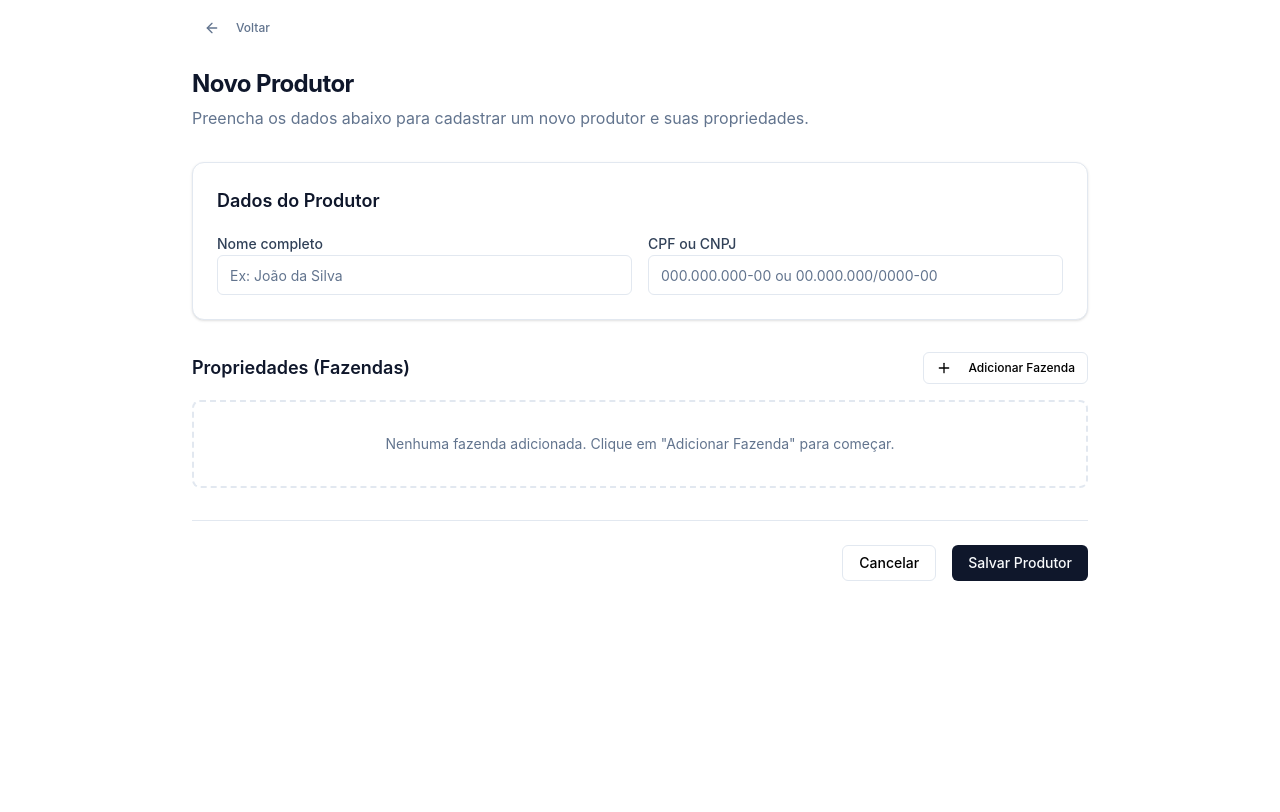
CreateProducer › validates area consistency
Step 1. Click the button "Adicionar Fazenda" → [1006, 368], box [923,352,1088,384]
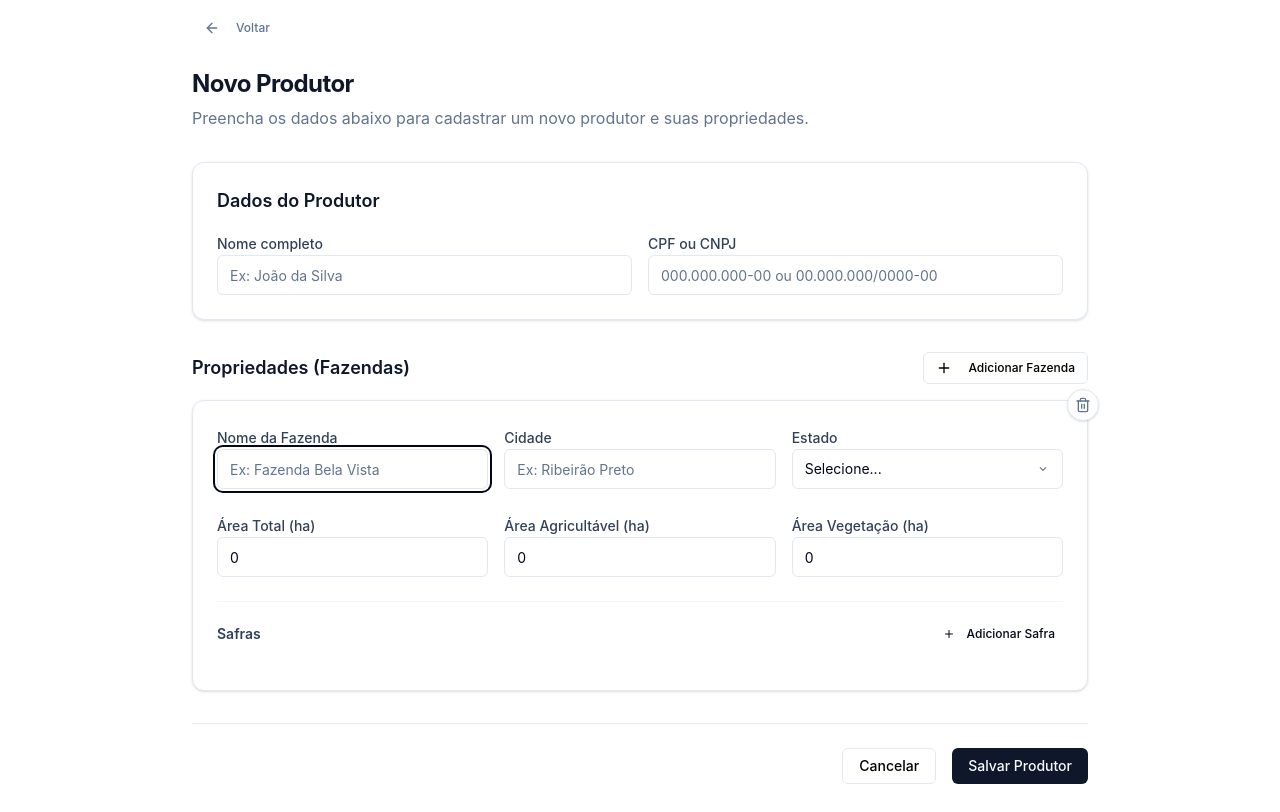
Step 2. Replace the text in the number field labelled "Área Total (ha)" with "100" → [353, 557], box [217,537,488,577]
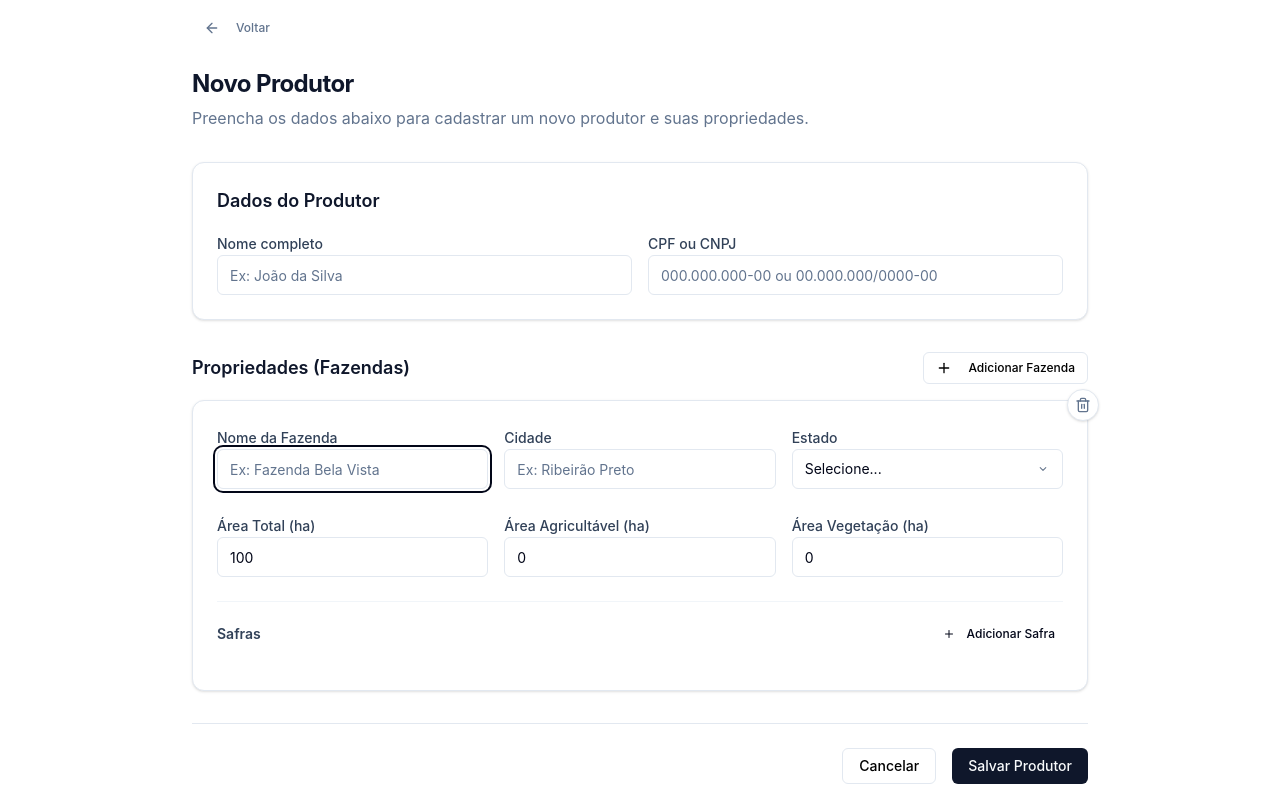
Step 3. Replace the text in the number field labelled "Área Agricultável (ha)" with "60" → [640, 557], box [504,537,776,577]
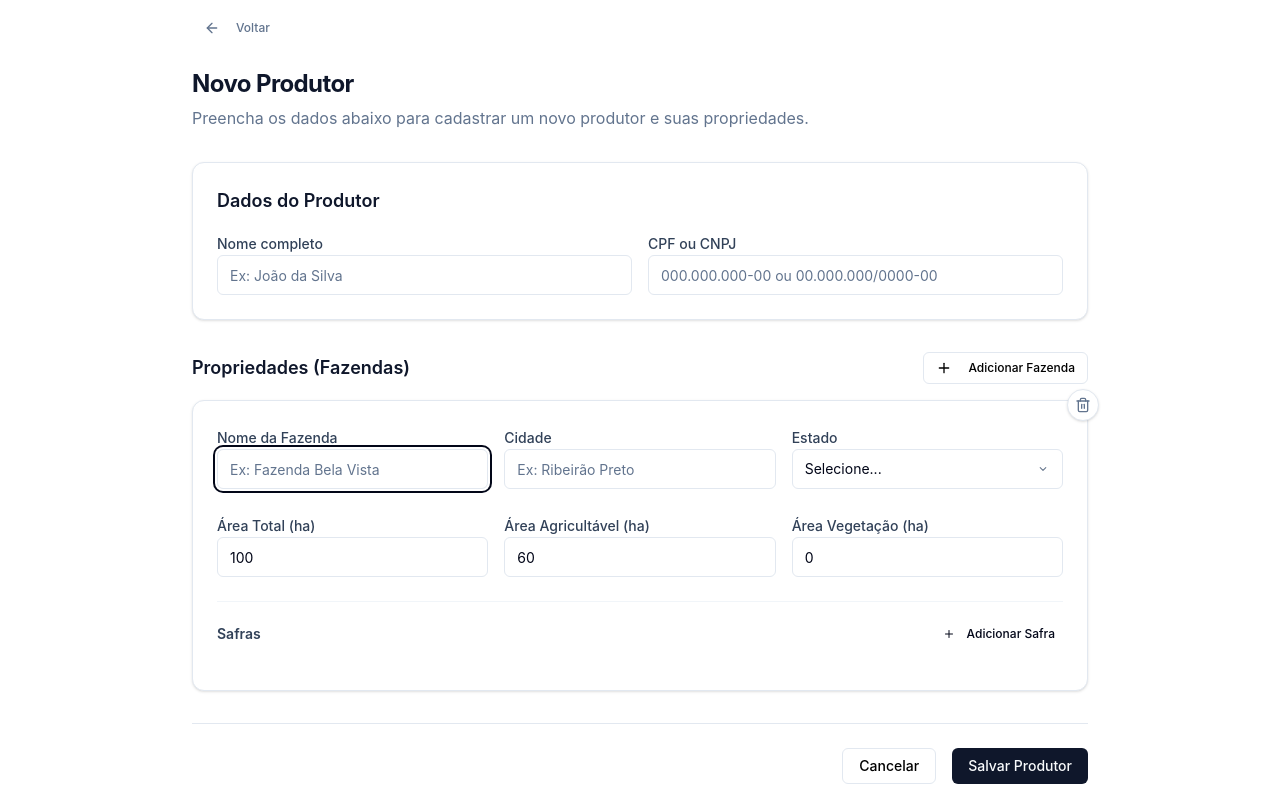
Step 4. Replace the text in the number field labelled "Área Vegetação (ha)" with "50" → [927, 557], box [792,537,1063,577]
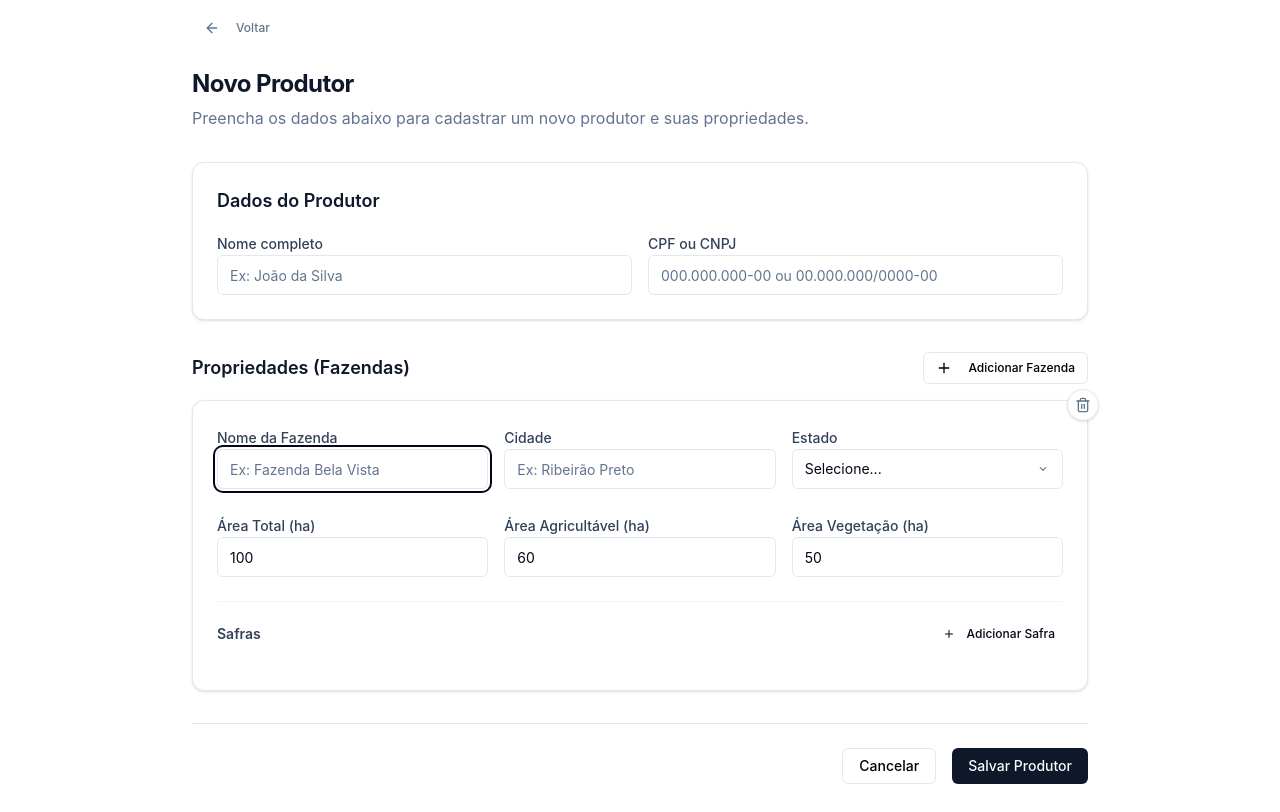
Step 5. Click the button "Salvar Produtor" → [1020, 766], box [952,748,1088,784]
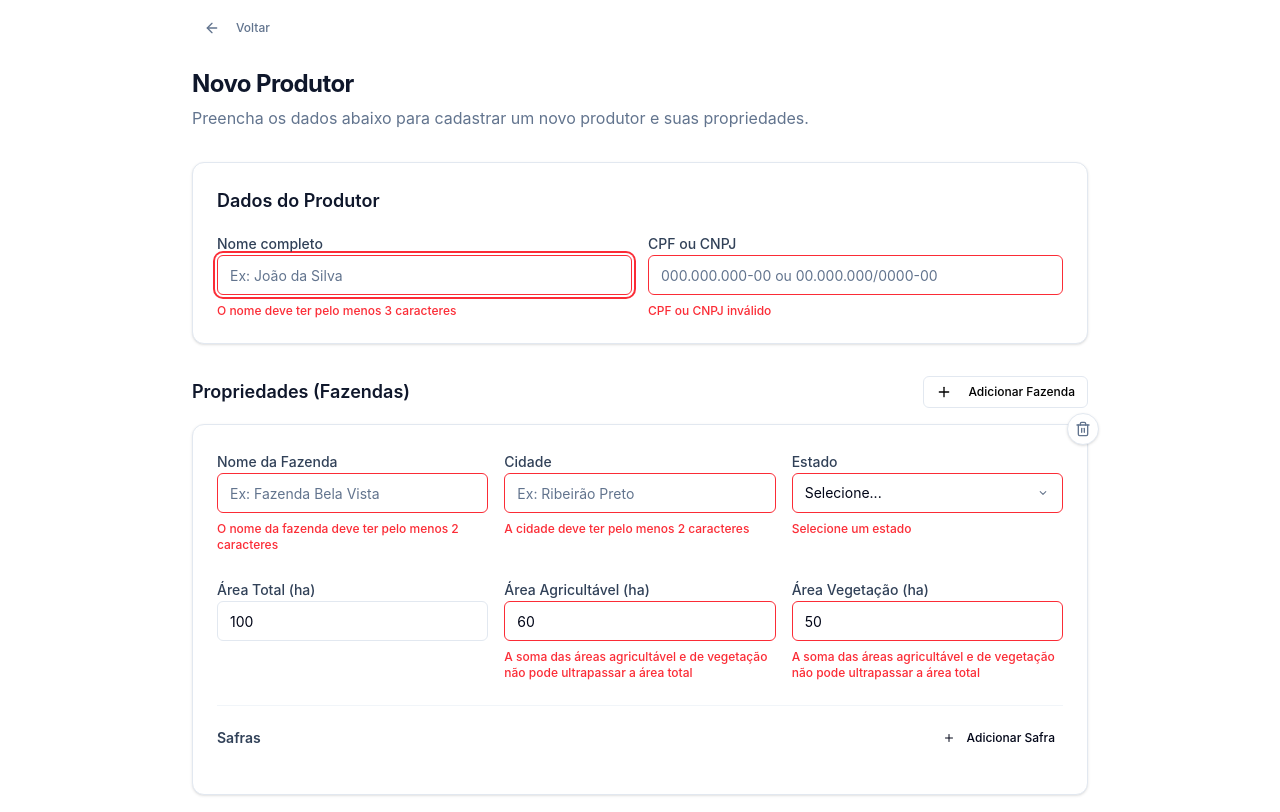
Expected: the text "A soma das áreas agricultável e de vegetação não pode ultrapassar a área total" is shown 2 times, [504,649,776,681]; [792,649,1063,681]
